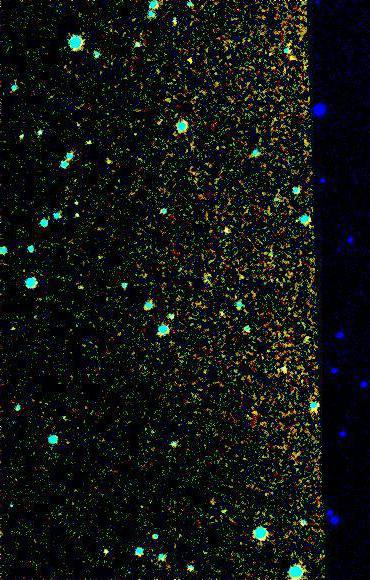star: (278, 40, 308, 70)
